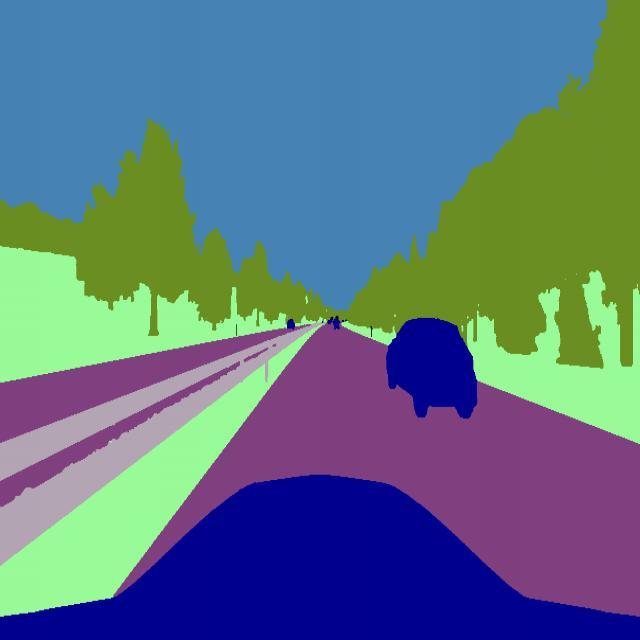safe: (384, 316, 479, 430), (283, 316, 299, 338), (330, 314, 342, 334)
